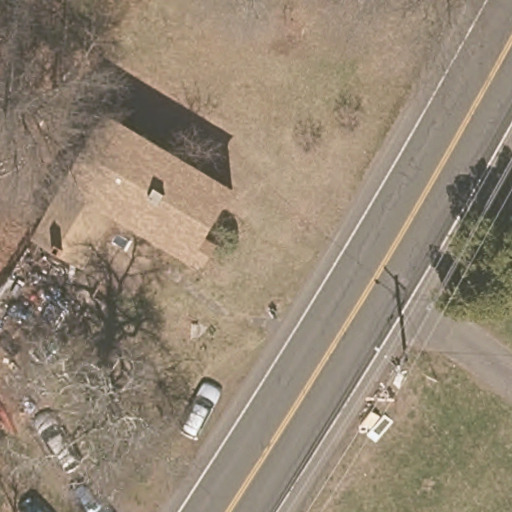DT: (373, 344, 414, 375)
